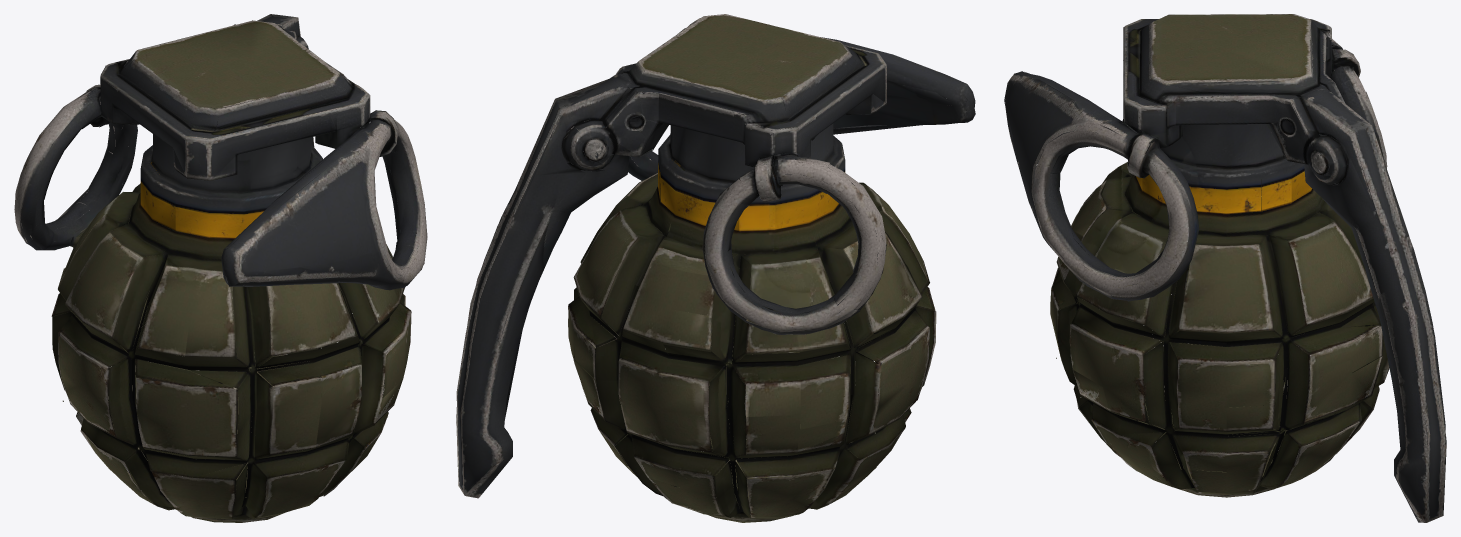
The model's file is frag_grenade.glb.
3 renders of one model, left to right at view 1: azimuth 30°, elevation 25°; view 2: azimuth 150°, elevation 25°; view 3: azimuth 270°, elevation 25°, orthographic. The views are drawn at different scales.
Visible parts, largest first — view 1: tripo_node_e8c5ab85-9fa3-427d-81c9-8583415460c0; view 2: tripo_node_e8c5ab85-9fa3-427d-81c9-8583415460c0; view 3: tripo_node_e8c5ab85-9fa3-427d-81c9-8583415460c0.
Boxes of the visible parts, x1=… form: tripo_node_e8c5ab85-9fa3-427d-81c9-8583415460c0: x1=14, y1=14, x2=427, y2=522; tripo_node_e8c5ab85-9fa3-427d-81c9-8583415460c0: x1=456, y1=14, x2=975, y2=522; tripo_node_e8c5ab85-9fa3-427d-81c9-8583415460c0: x1=1004, y1=14, x2=1446, y2=522.
Bounding box in the file's own units: 0.0946 × 0.1101 × 0.1015.
Materials: 1 (1 with a texture image).
